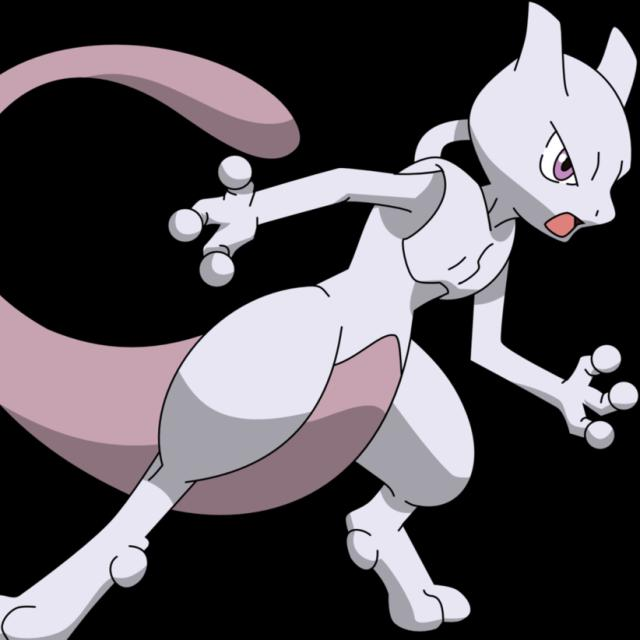Mewtwo: (161, 51, 632, 508)
